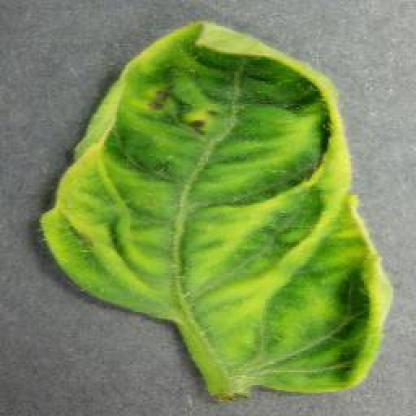bad leaf: (29, 19, 385, 386)
